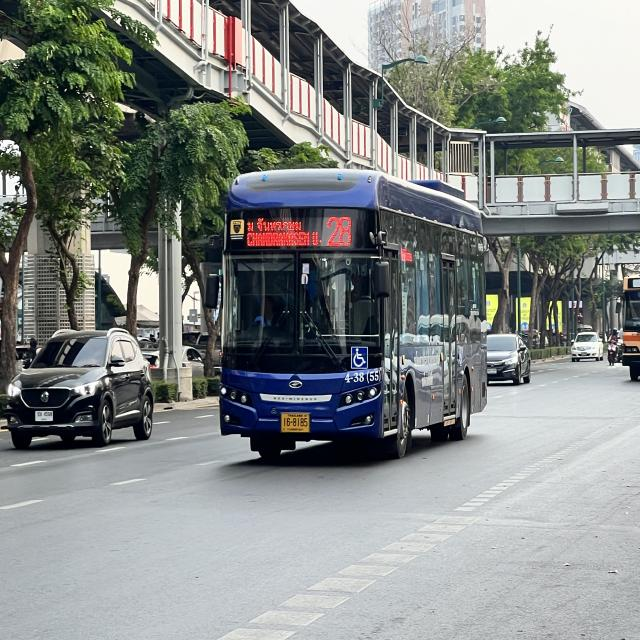Bus-Line-Number: (324, 214, 354, 249)
Destination-Sign-Normal: (242, 214, 323, 250)
TSB-Bus: (212, 155, 492, 462)
